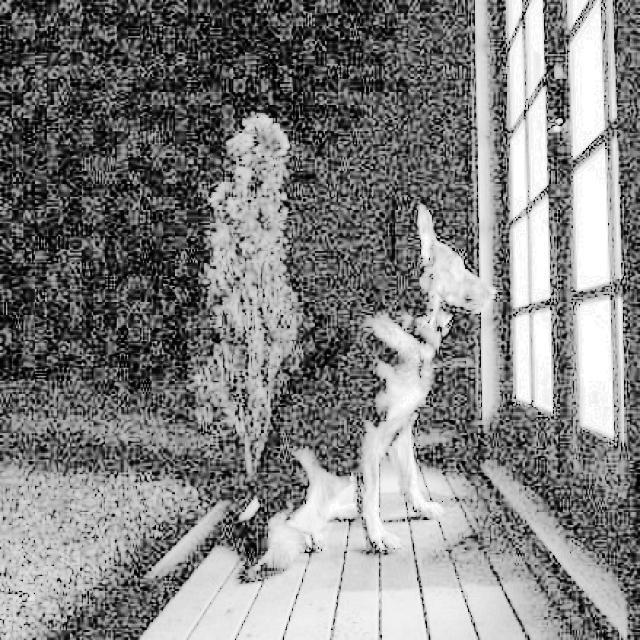Dog: (219, 201, 500, 569)
